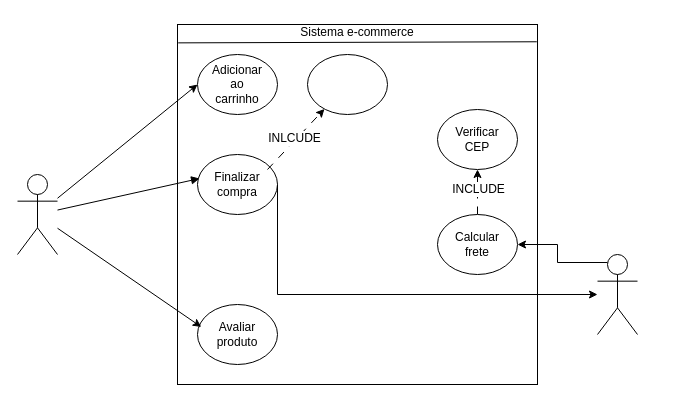
The diagram is 696 pixels wide and 402 high, and some of its shapes have lost their labels. Here are the shapes that lost their labels. From the top down, the centre of each, then its label:
At point (347, 84): "Solicitar método de pagamento".
At point (37, 214): "Cliente".
At point (617, 294): "Sistema de pagamento".
